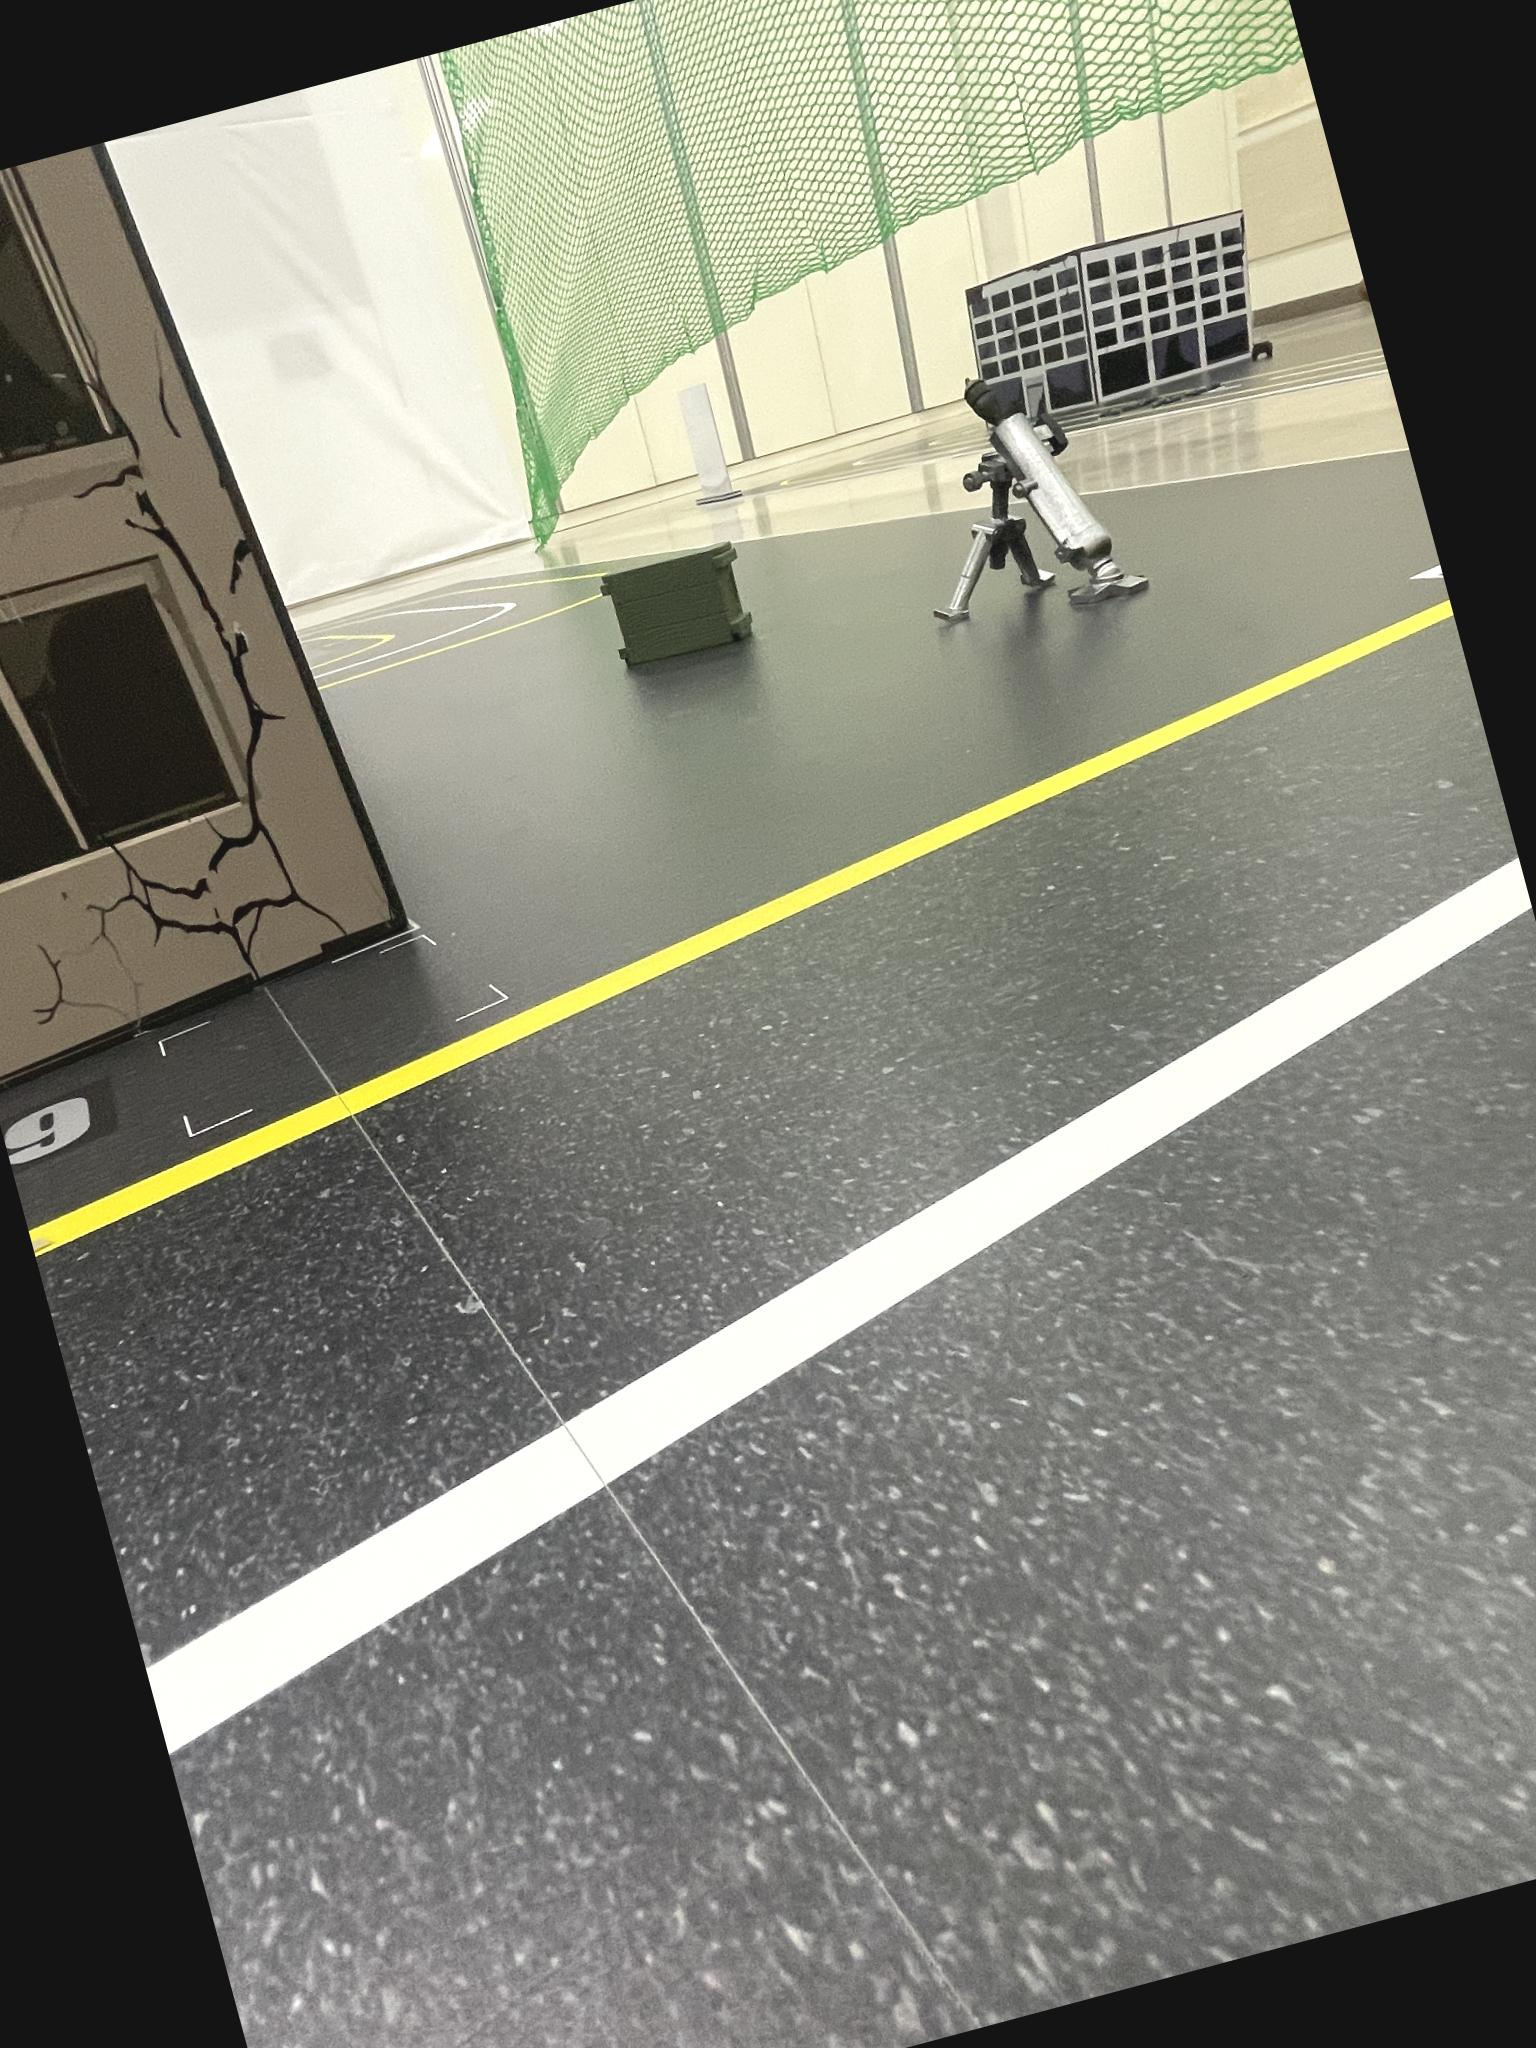Box: (600, 534, 760, 679)
Mortar: (883, 342, 1147, 643)
